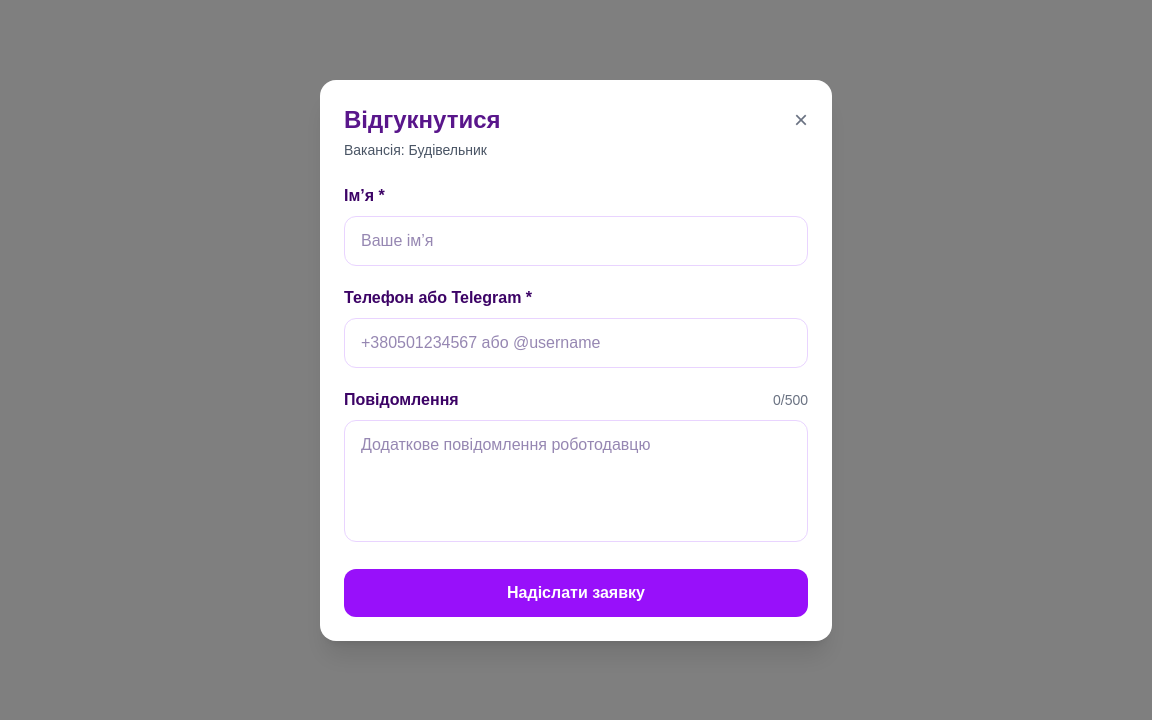
ApplicationForm › submits valid form data and shows optimistic success
Type "Олена" into the field labelled "Ім’я *".
click(576, 240); type("Олена")  # box [344,216,808,266]
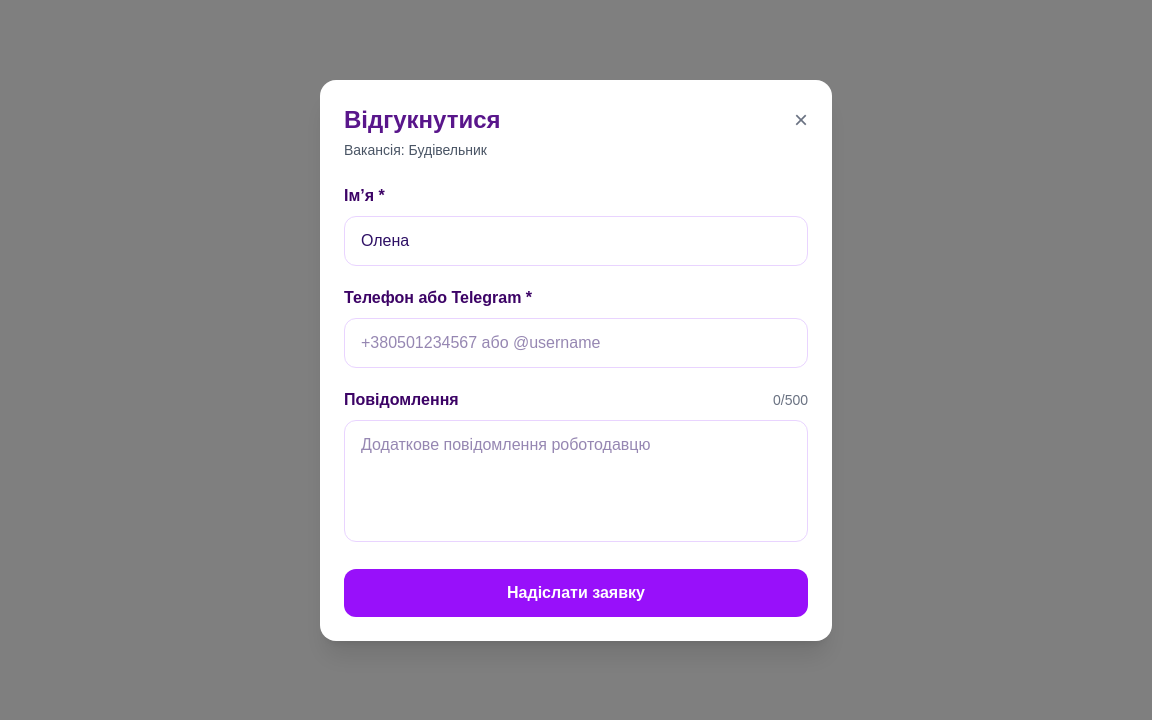
Type "@olena_test" into the field labelled "Телефон або Telegram *".
click(576, 342); type("@olena_test")  # box [344,318,808,368]
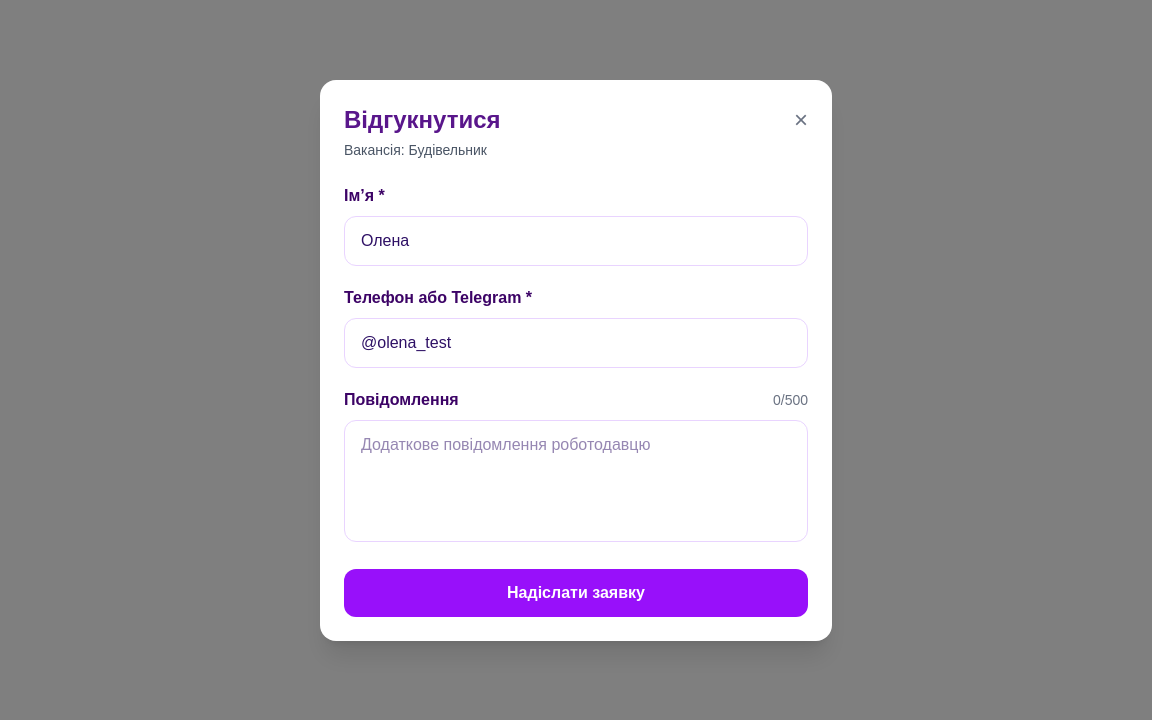
Type "Хочу відгукнутися на вакансію." into the text box labelled "Повідомлення".
click(576, 480); type("Хочу відгукнутися на вакансію.")  # box [344,420,808,542]
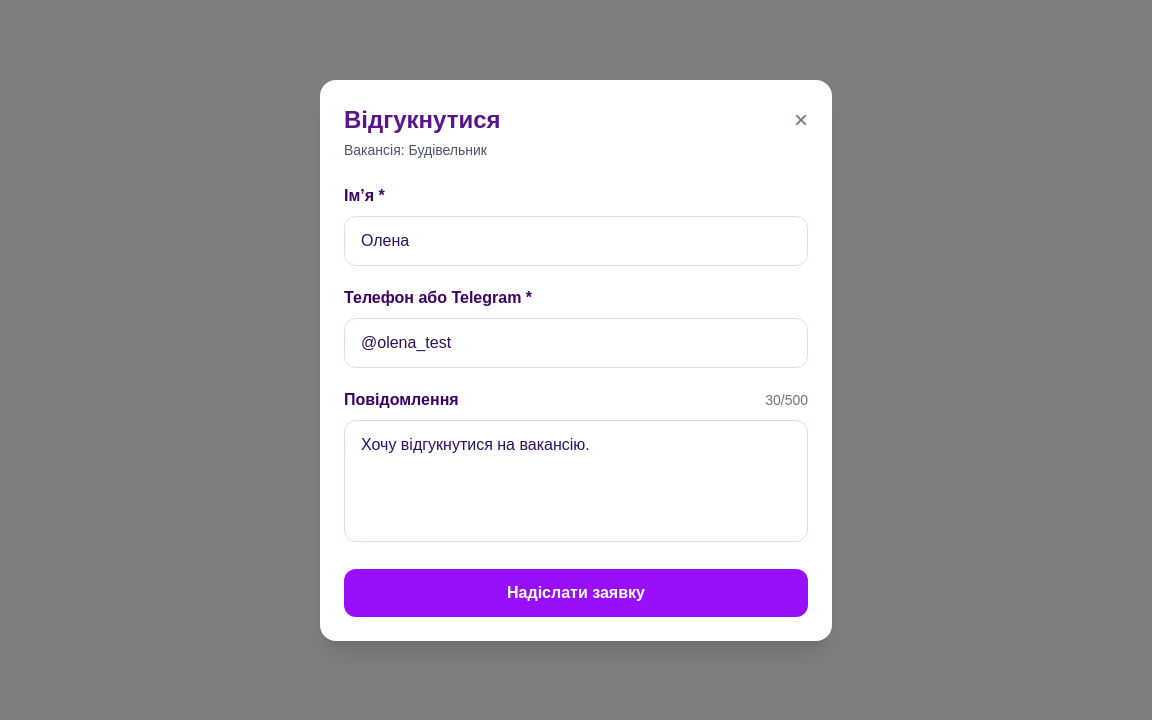
Click the button "Надіслати заявку".
click(576, 592)  # box [344,568,808,616]
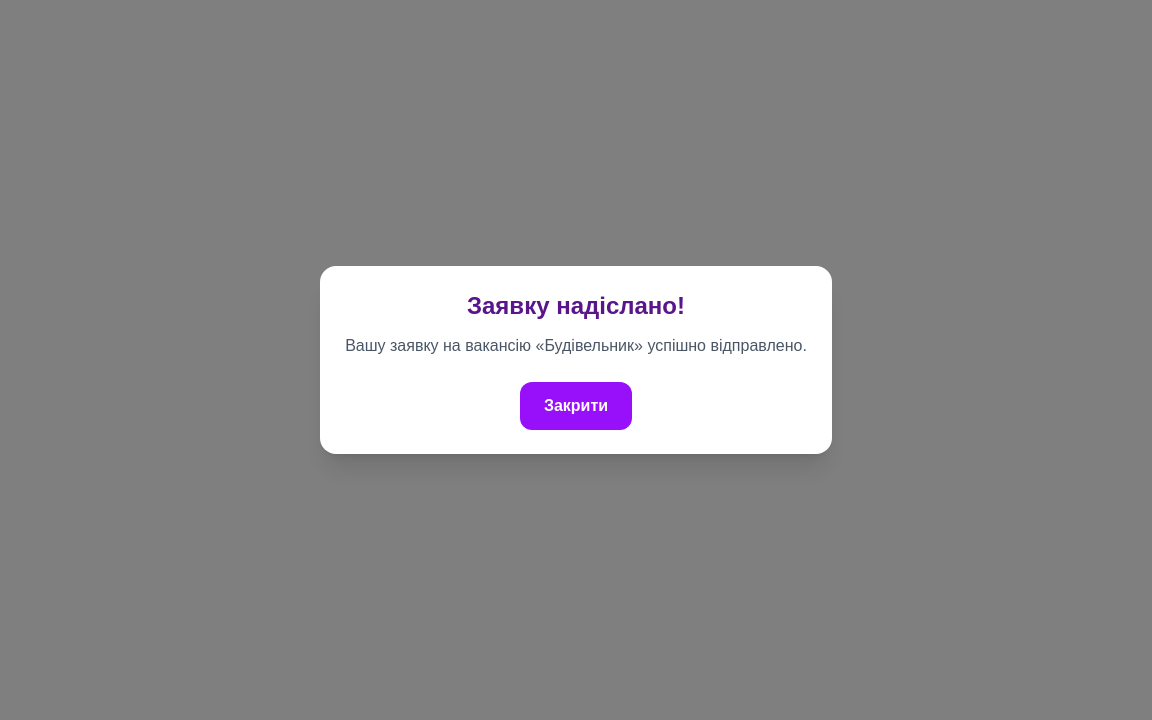
Result: the heading "Заявку надіслано!" is shown at [467,292,685,319]
